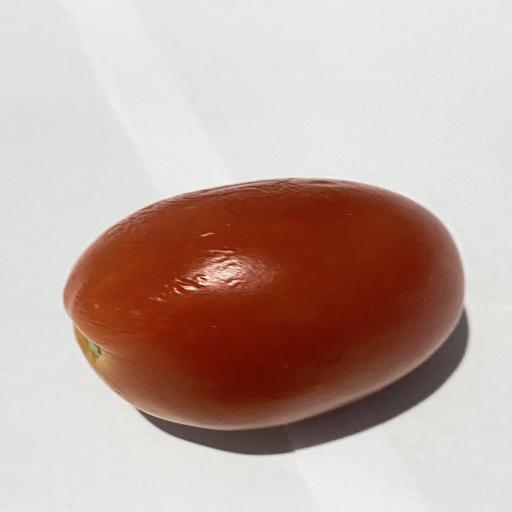spoiled: (64, 179, 464, 430)
